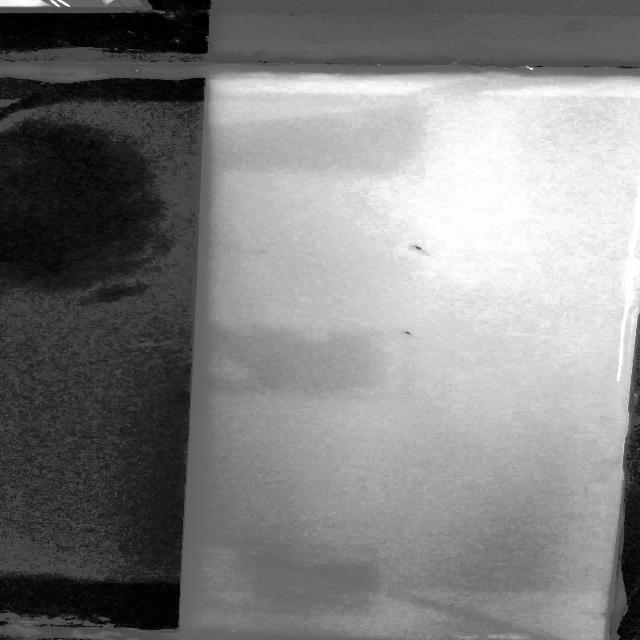shrimp: (387, 236, 441, 256), (388, 327, 422, 338)
